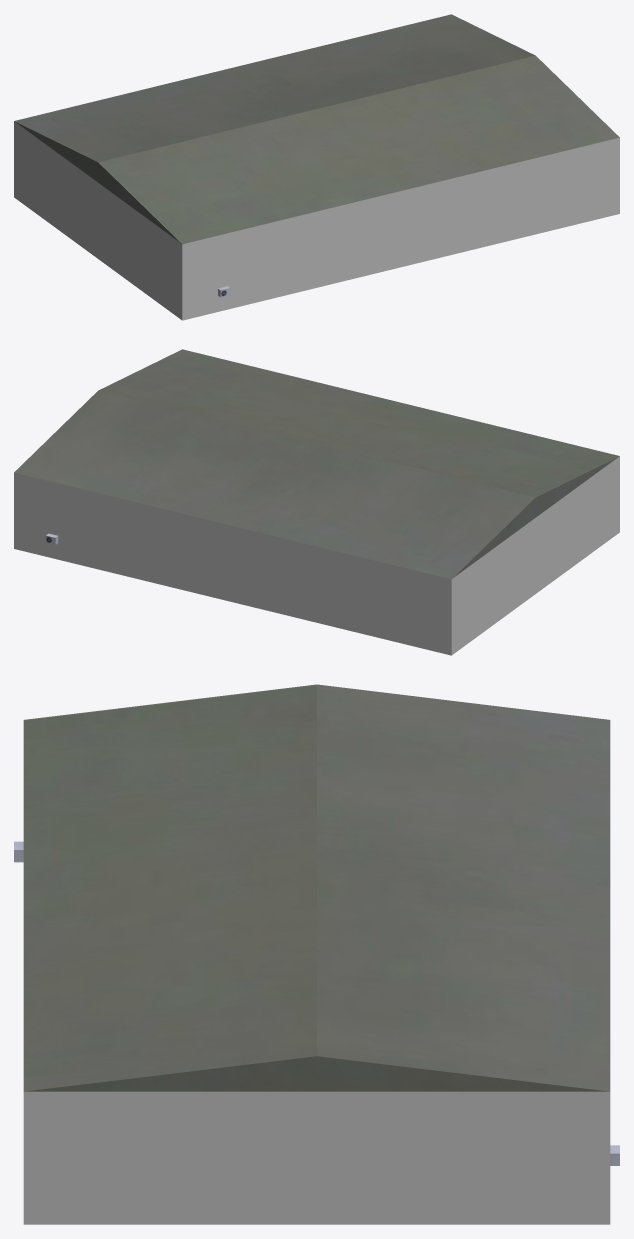
Rendered from GYM.gltf.
3 renders of one model, top to bottom at view 1: azimuth 30°, elevation 25°; view 2: azimuth 150°, elevation 25°; view 3: azimuth 270°, elevation 25°, orthographic. The views are drawn at different scales.
Parts seen in each view (by area): view 1: node6, node4, node3; view 2: node6, node4, node3; view 3: node6, node3.
Boxes of the visible parts, box(x1,y1,x2,y2) form: node6: box(14, 14, 619, 244); node4: box(182, 137, 619, 320); node3: box(14, 121, 182, 319); node6: box(14, 349, 619, 579); node4: box(14, 472, 451, 655); node3: box(451, 456, 619, 654); node6: box(23, 684, 610, 1091); node3: box(23, 1091, 610, 1224).
Size of the model in its own units: 45 by 9.5 by 31.
